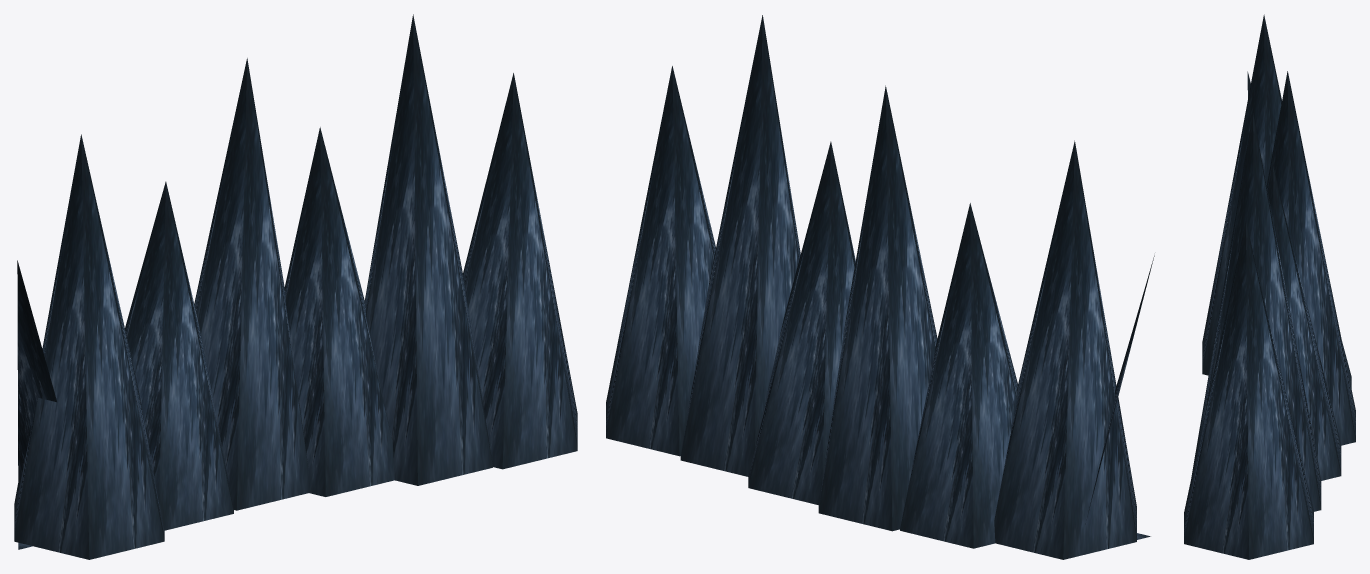
Rendered from citadel_backdrop_1.obj.
3 views of the same model, side by side, from view 1: azimuth 30°, elevation 25°; view 2: azimuth 150°, elevation 25°; view 3: azimuth 270°, elevation 25° (orthographic). The views are drawn at different scales.
Parts seen in each view (by area): view 1: citadel_backdrop_1; view 2: citadel_backdrop_1; view 3: citadel_backdrop_1.
Boxes of the visible parts, bbox=[...] form: citadel_backdrop_1: bbox=[14, 14, 577, 559]; citadel_backdrop_1: bbox=[606, 15, 1154, 559]; citadel_backdrop_1: bbox=[1184, 14, 1355, 559].
Bounding box in the file's own units: 52.26 × 39 × 16.02.
1 material, 1 textured.
